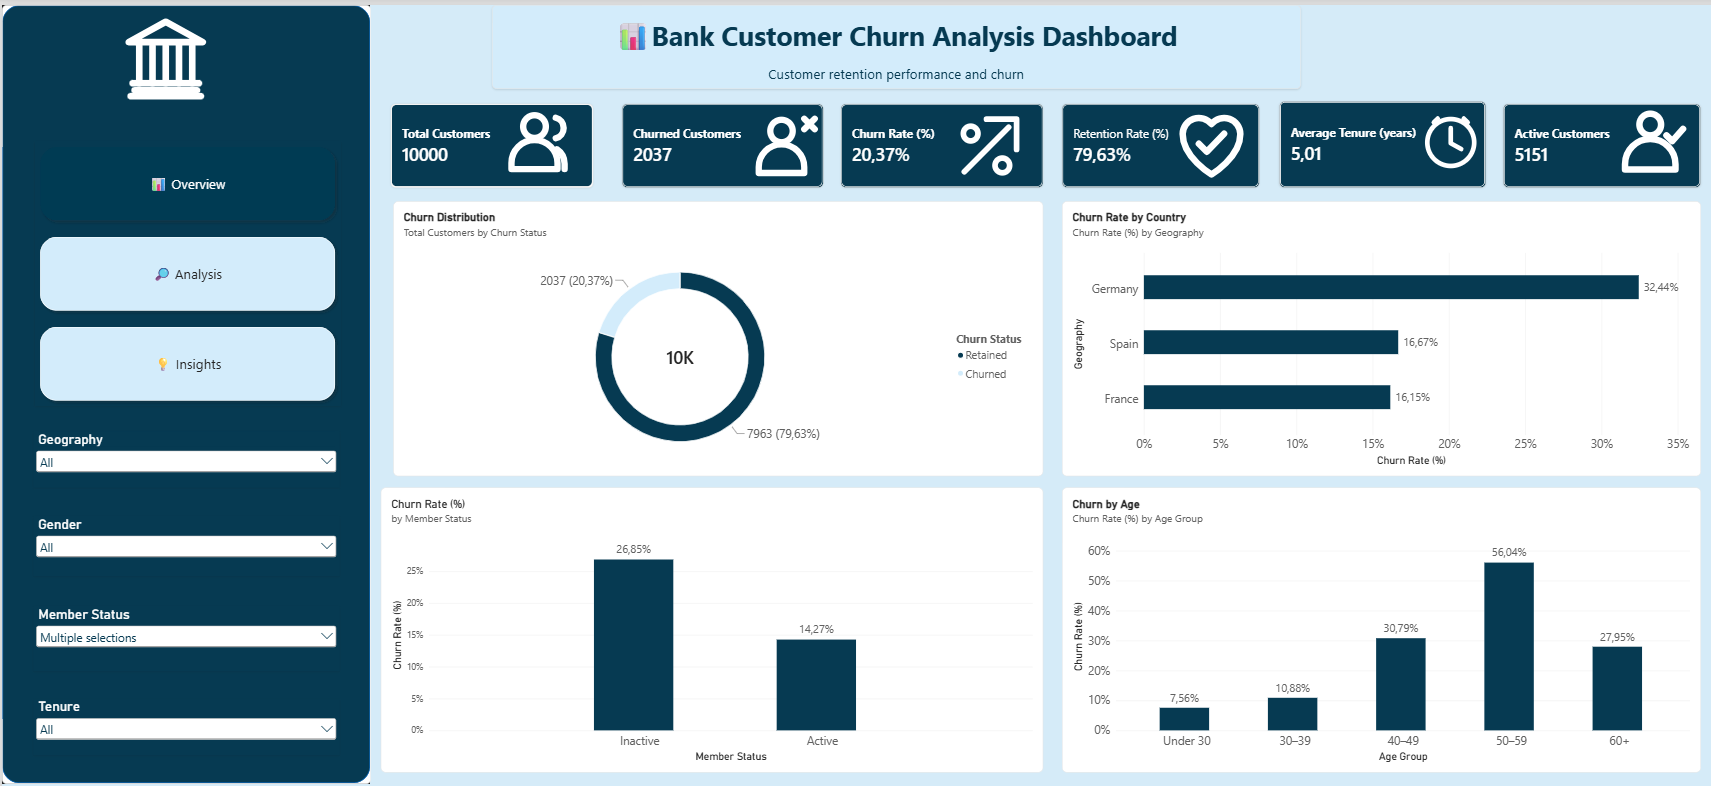

Layout of this report page (visuals, bound fields, positions):
{"tool":"powerbi","page":{"name":"📊 Overview","canvas":[5000,2000],"ordinal":0},"visuals":[{"type":"textbox","box":[784,0,1294,134],"z":0},{"type":"donutChart","title":"Churn Distribution","fields":{"Category":["churn_analysis customers.Churn Status"],"Y":["churn_analysis customers.Total Customers"]},"box":[626,314,1040,440],"z":1000},{"type":"cardVisual","fields":{"Data":["churn_analysis customers.Total Customers"]},"box":[626,158,324,134],"z":2000,"group":"g2"},{"type":"clusteredBarChart","title":"Churn Rate by Country","fields":{"Category":["churn_analysis customers.Geography"],"Y":["churn_analysis customers.Churn Rate (%)"]},"box":[1696,314,1022,440],"z":2000},{"type":"cardVisual","fields":{"Data":["churn_analysis customers.Churned Customers"]},"box":[992,158.8,322,134],"z":3000,"group":"g3"},{"type":"clusteredColumnChart","title":"Churn by Age","fields":{"Category":["churn_analysis customers.Age Group"],"Y":["churn_analysis customers.Churn Rate (%)"]},"box":[1696,772,1022,456],"z":3000},{"type":"cardVisual","fields":{"Data":["churn_analysis customers.Churn Rate (%)"]},"box":[1342,158.8,324,134],"z":4000,"group":"g4"},{"type":"clusteredColumnChart","fields":{"Category":["churn_analysis customers.Member Status"],"Y":["churn_analysis customers.Churn Rate (%)"]},"box":[606,772,1060,456],"z":4000},{"type":"group","id":"g1","title":"Group 1","box":[0,0,590,1246],"z":5000},{"type":"cardVisual","fields":{"Data":["churn_analysis customers.Retention Rate (%)"]},"box":[1696,158.8,316,134],"z":5000,"group":"g5"},{"type":"group","id":"g2","title":"Group 2","box":[626,158,324,134],"z":6000},{"type":"group","id":"g3","title":"Group 3","box":[992,156,322,136.8],"z":7000},{"type":"group","id":"g4","title":"Group 4","box":[1342,158.8,324,134],"z":8000},{"type":"group","id":"g5","title":"Group 5","box":[1696,150,320,142.8],"z":9000},{"type":"shape","box":[0,0,590,1246],"z":9500,"group":"g1"},{"type":"group","id":"g6","title":"Group 6","box":[2044,154.8,344,138],"z":10000},{"type":"slicer","fields":{"Values":["churn_analysis customers.Gender"]},"box":[50,818,490,96],"z":10000,"group":"g1"},{"type":"group","id":"g7","title":"Group 7","box":[2402,148,316,144.8],"z":11000},{"type":"slicer","fields":{"Values":["churn_analysis customers.Geography"]},"box":[50,682,490,90],"z":11000,"group":"g1"},{"type":"slicer","fields":{"Values":["churn_analysis customers.Member Status"]},"box":[50,962,490,104],"z":12000,"group":"g1"},{"type":"slicer","fields":{"Values":["churn_analysis customers.Tenure"]},"box":[50,1110,490,90],"z":13000,"group":"g1"},{"type":"cardVisual","fields":{"Data":["churn_analysis customers.Average Tenure"]},"box":[2044,154.8,330,138],"z":14000,"group":"g6"},{"type":"cardVisual","fields":{"Data":["churn_analysis customers.Active Customers"]},"box":[2402,158.8,316,134],"z":15000,"group":"g7"},{"type":"pageNavigator","box":[52,218,490,424],"z":16000,"group":"g1"},{"type":"image","box":[788,158,136,128],"z":16002,"group":"g2"},{"type":"image","box":[1180,156,134,136],"z":16003,"group":"g3"},{"type":"image","box":[1504,170,142,122],"z":16004,"group":"g4"},{"type":"image","box":[1854,150,162,138],"z":16005,"group":"g5"},{"type":"image","box":[2248,170,140,100],"z":16006,"group":"g6"},{"type":"image","box":[2556,148,162,138],"z":16007,"group":"g7"},{"type":"image","box":[176,8,172,150],"z":16008,"group":"g1"}]}

Visuals, with their boxes on the page's 5000x2000 design canvas (x1, y1, x2, y2). These are canvas units, not pixel positions in the 1711x786 screenshot, which may show the page scaled, cropped or inside an application window:
textbox: [left=784, top=0, right=2078, bottom=134]
"Churn Distribution" donutChart: [left=626, top=314, right=1666, bottom=754]
cardVisual - churn_analysis customers.Total Customers: [left=626, top=158, right=950, bottom=292]
"Churn Rate by Country" clusteredBarChart: [left=1696, top=314, right=2718, bottom=754]
cardVisual - churn_analysis customers.Churned Customers: [left=992, top=159, right=1314, bottom=293]
"Churn by Age" clusteredColumnChart: [left=1696, top=772, right=2718, bottom=1228]
cardVisual - churn_analysis customers.Churn Rate (%): [left=1342, top=159, right=1666, bottom=293]
clusteredColumnChart - churn_analysis customers.Member Status x churn_analysis customers.Churn Rate (%): [left=606, top=772, right=1666, bottom=1228]
"Group 1" group: [left=0, top=0, right=590, bottom=1246]
cardVisual - churn_analysis customers.Retention Rate (%): [left=1696, top=159, right=2012, bottom=293]
"Group 2" group: [left=626, top=158, right=950, bottom=292]
"Group 3" group: [left=992, top=156, right=1314, bottom=293]
"Group 4" group: [left=1342, top=159, right=1666, bottom=293]
"Group 5" group: [left=1696, top=150, right=2016, bottom=293]
shape: [left=0, top=0, right=590, bottom=1246]
"Group 6" group: [left=2044, top=155, right=2388, bottom=293]
slicer - churn_analysis customers.Gender: [left=50, top=818, right=540, bottom=914]
"Group 7" group: [left=2402, top=148, right=2718, bottom=293]
slicer - churn_analysis customers.Geography: [left=50, top=682, right=540, bottom=772]
slicer - churn_analysis customers.Member Status: [left=50, top=962, right=540, bottom=1066]
slicer - churn_analysis customers.Tenure: [left=50, top=1110, right=540, bottom=1200]
cardVisual - churn_analysis customers.Average Tenure: [left=2044, top=155, right=2374, bottom=293]
cardVisual - churn_analysis customers.Active Customers: [left=2402, top=159, right=2718, bottom=293]
pageNavigator: [left=52, top=218, right=542, bottom=642]
image: [left=788, top=158, right=924, bottom=286]
image: [left=1180, top=156, right=1314, bottom=292]
image: [left=1504, top=170, right=1646, bottom=292]
image: [left=1854, top=150, right=2016, bottom=288]
image: [left=2248, top=170, right=2388, bottom=270]
image: [left=2556, top=148, right=2718, bottom=286]
image: [left=176, top=8, right=348, bottom=158]
